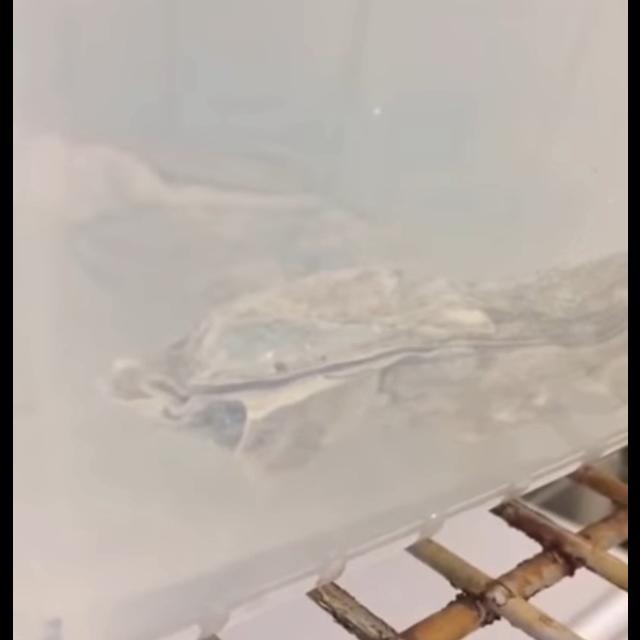Oyster-Closed: (101, 252, 628, 476)
Oyster-Indeterminate: (70, 136, 352, 247)
